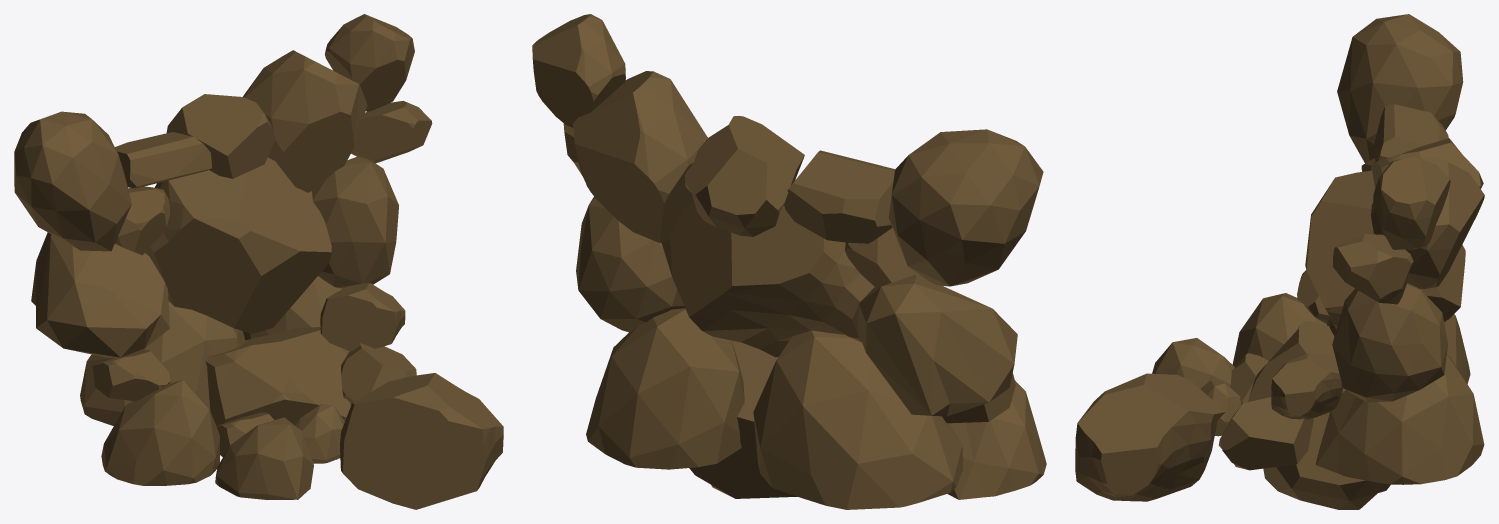
Rendered from Dirt Plug - Mesh.fbx.
The picture shows the model from 3 angles, left to right: view 1: azimuth 30°, elevation 25°; view 2: azimuth 150°, elevation 25°; view 3: azimuth 270°, elevation 25°; orthographic projection. The views are drawn at different scales.
Parts seen in each view (by area): view 1: Sandstone 6.013; view 2: Sandstone 6.013; view 3: Sandstone 6.013.
Boxes of the visible parts, x1,y1,x2,y2 form: Sandstone 6.013: (14,14,503,509); Sandstone 6.013: (532,14,1046,509); Sandstone 6.013: (1075,14,1484,509).
Bounding box in the file's own units: 1053 × 971 × 919.
